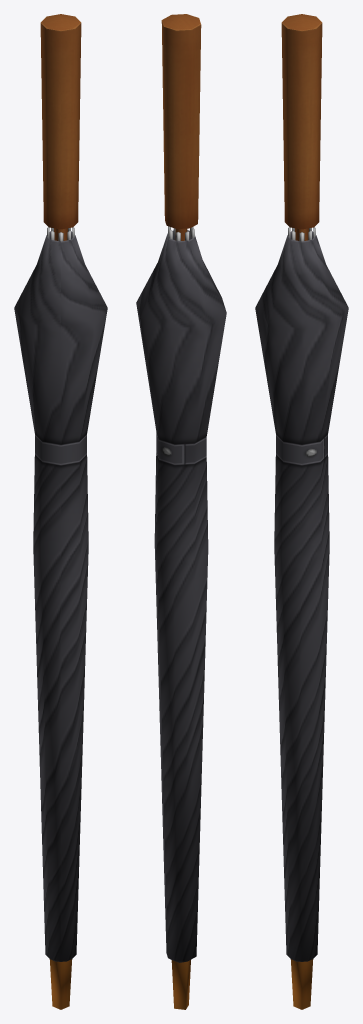
File: set_umbrella_05.fbx
The picture shows the model from 3 angles, left to right: view 1: azimuth 90°, elevation 25°; view 2: azimuth 210°, elevation 25°; view 3: azimuth 270°, elevation 25°; orthographic projection.
Visible parts, largest first — view 1: set_umbrella_05; view 2: set_umbrella_05; view 3: set_umbrella_05.
Part boxes in pixels (x1,y1,x2,y2): set_umbrella_05: (14, 14, 107, 1009); set_umbrella_05: (136, 14, 226, 1009); set_umbrella_05: (255, 14, 348, 1009).
Size of the model in its own units: 7.05 by 82.16 by 7.05.
